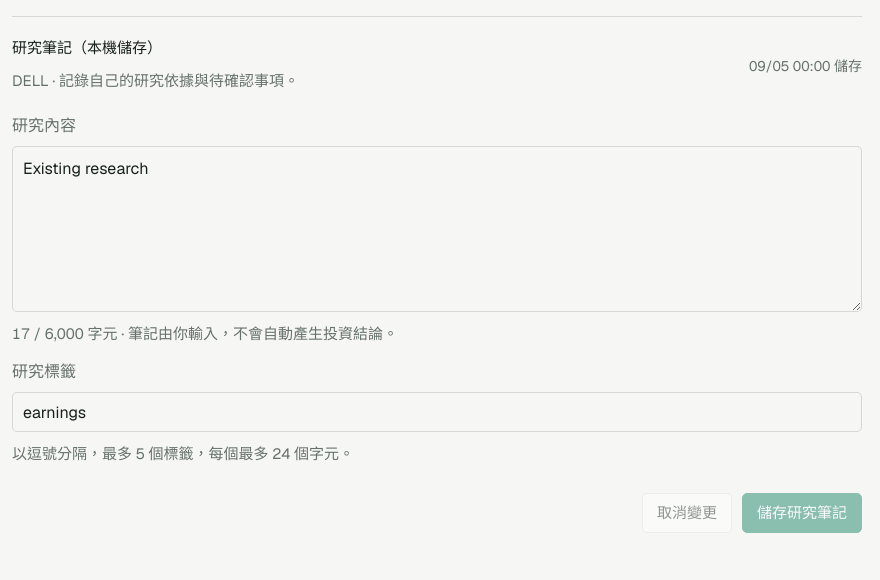
Test: local research journal › saves user content and trimmed tags with the loaded version
Replace the text in the text box labelled "研究內容" with "New research" at (437, 228), box [12,146,862,312]
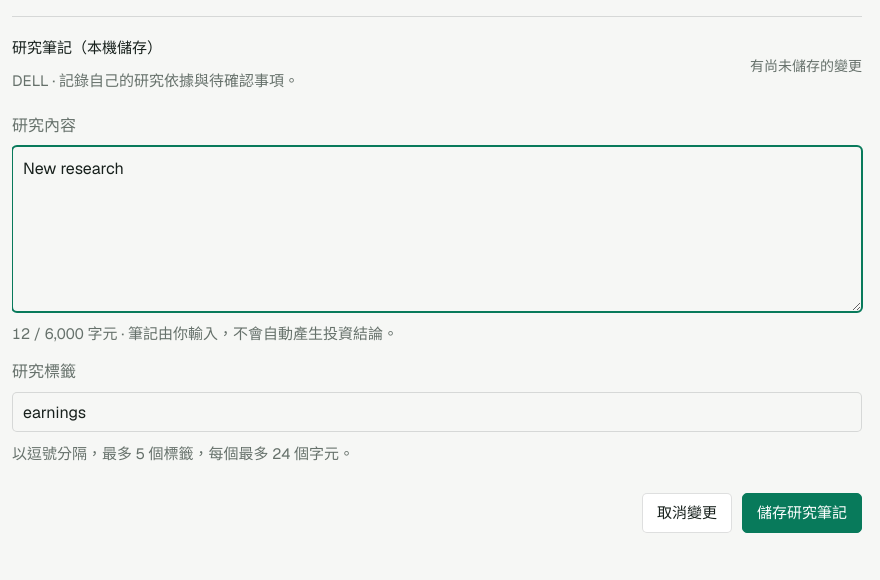
Replace the text in the field labelled "研究標籤" with " growth, earnings " at (437, 412), box [12,392,862,432]
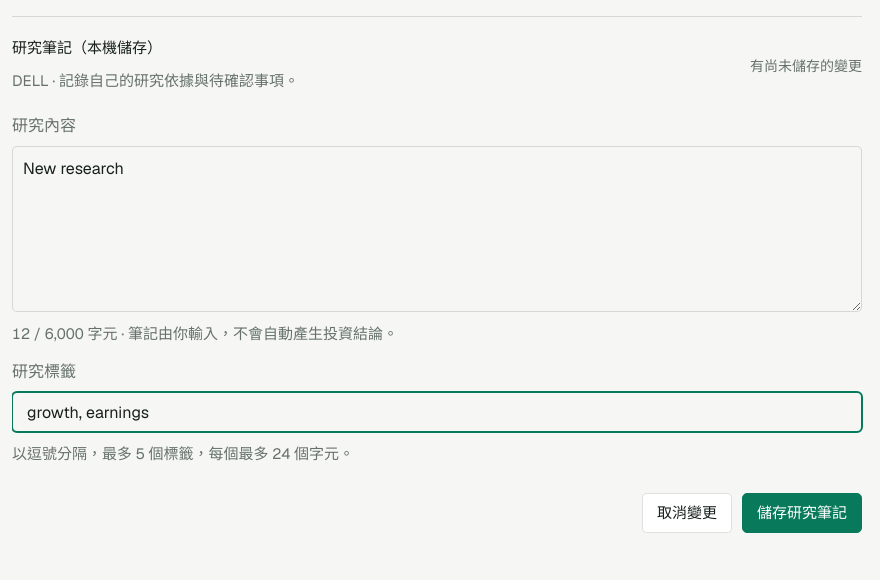
Click the button "儲存研究筆記" at (802, 512), box [742,492,862,532]
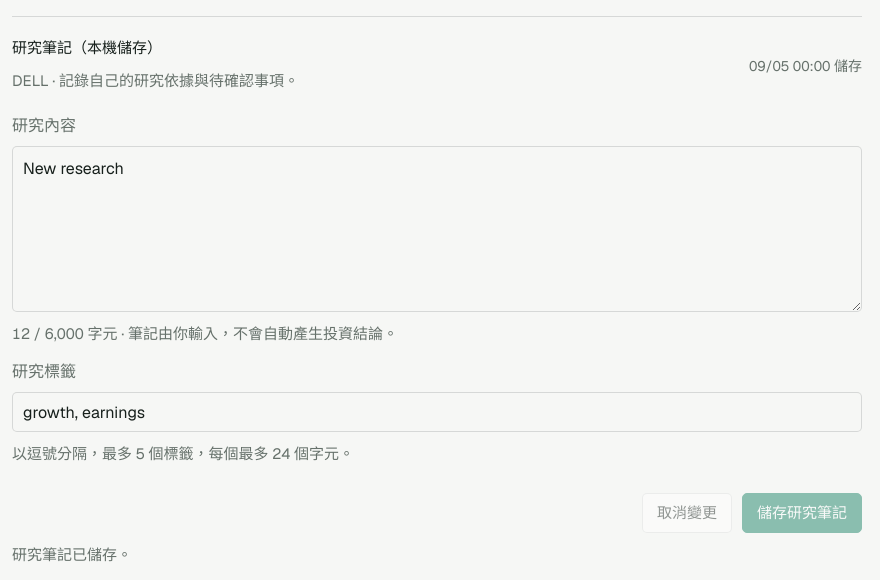
expect the text "研究筆記已儲存。" is shown: met, box [12,544,132,564]
expect the button "儲存研究筆記" is disabled: met, box [742,492,862,532]
